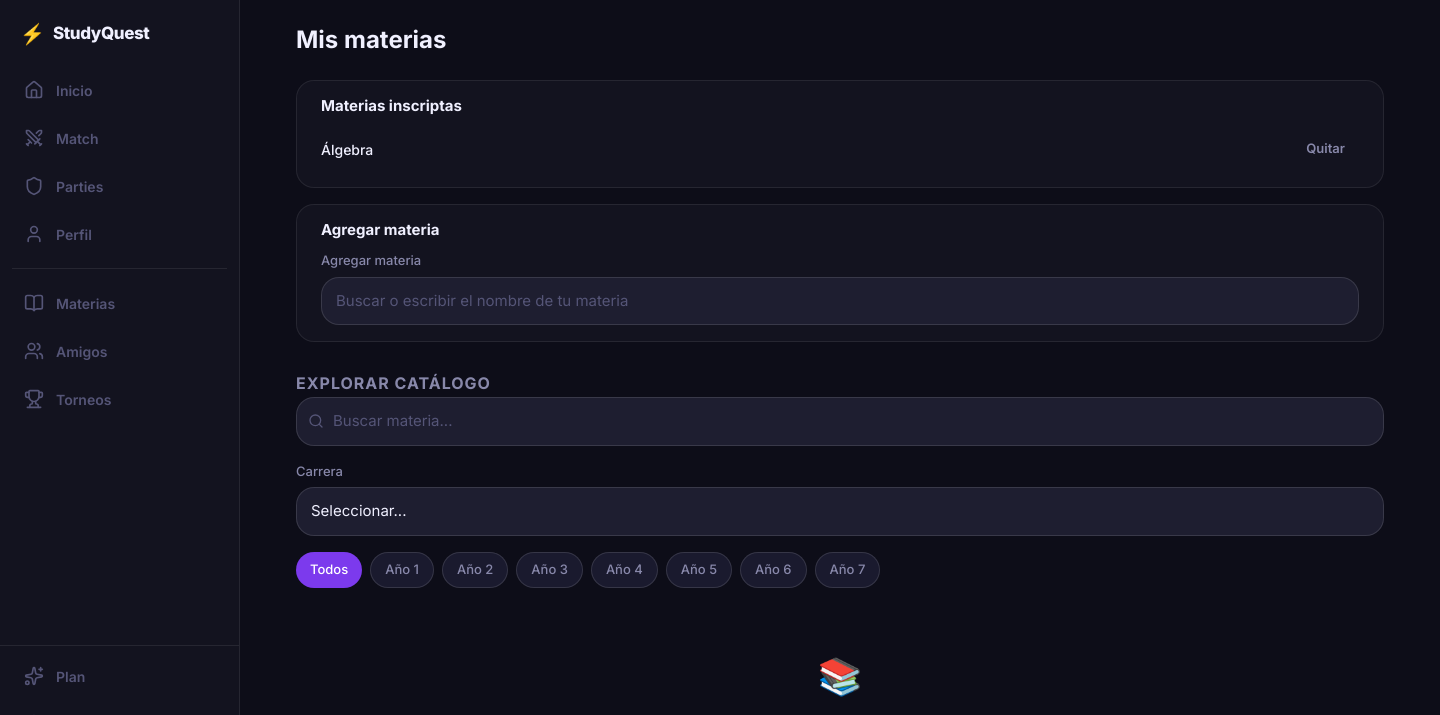
Test: SubjectExplorerPage › shows the backend message on a 422 SUBJECT_NAME_REJECTED
Type "asdasdasd" into the field labelled "Agregar materia" at (840, 301), box [321, 276, 1359, 325]
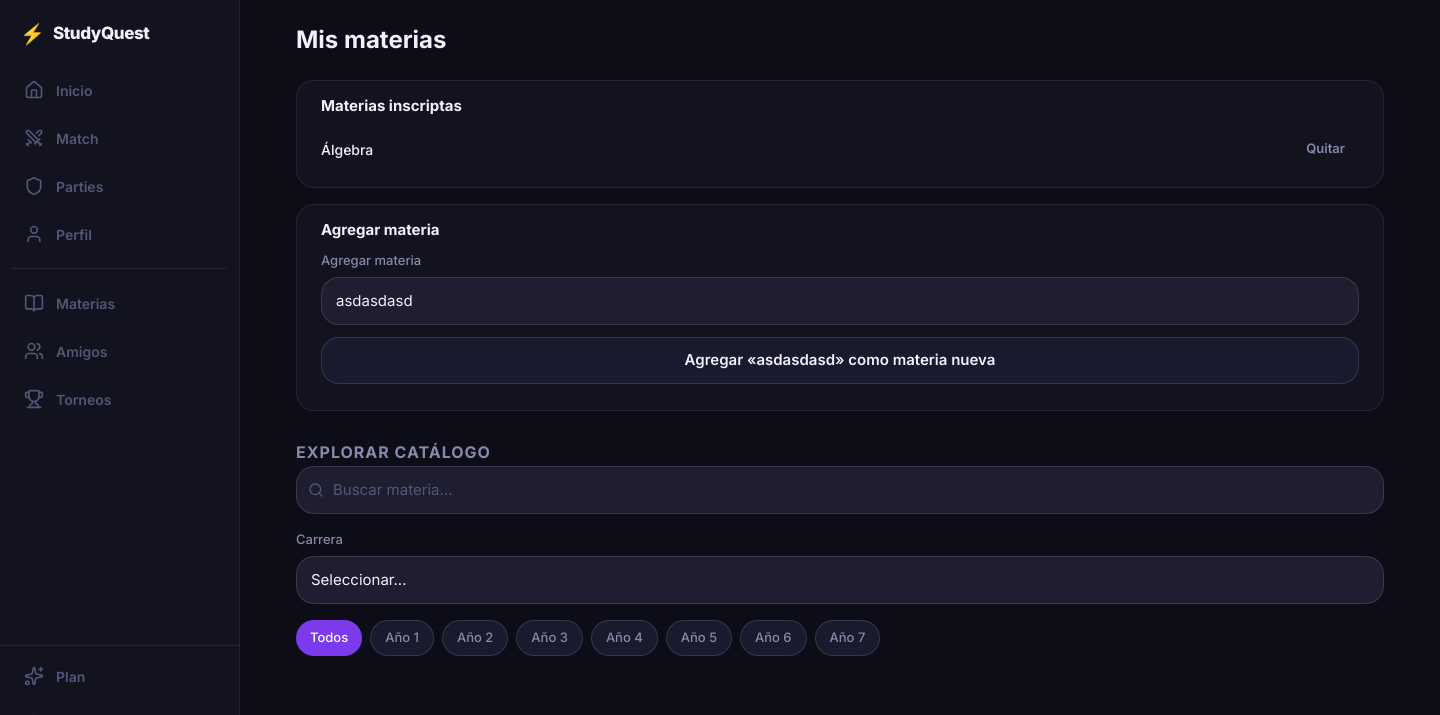
Click the button "Agregar «asdasdasd» como materia nueva" at (840, 360), box [321, 337, 1359, 384]
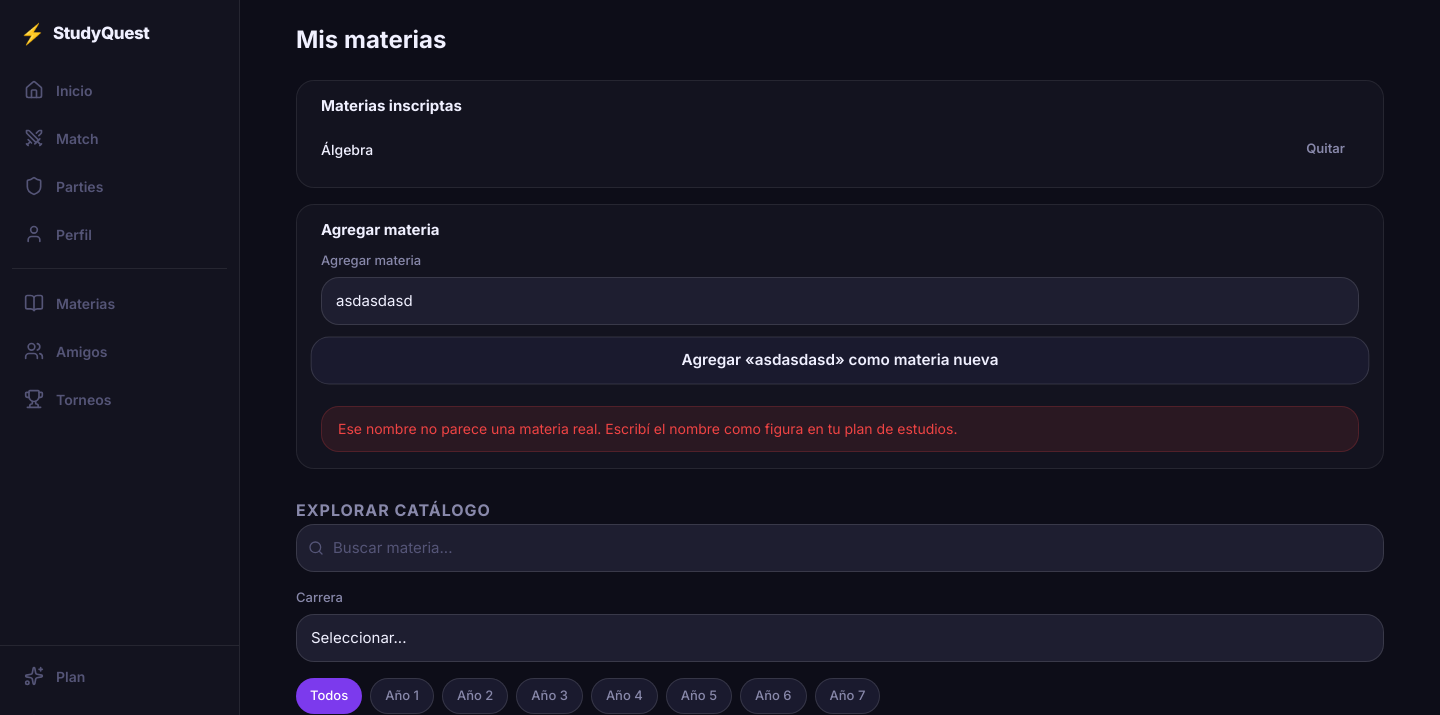
expect the text "Ese nombre no parece una materia real. Escribí el nombre como figura en tu plan de estudios." is shown: met, box [338, 420, 958, 436]
